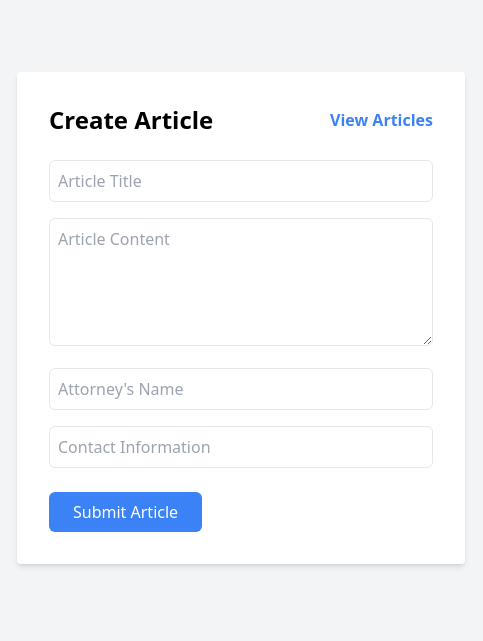
Test: CreateArticle › validates form fields and displays error messages
This screenshot has width=483, height=641.
Click the button "Submit Article".
click(126, 512)  # box top-left (49, 492), bottom-right (202, 532)
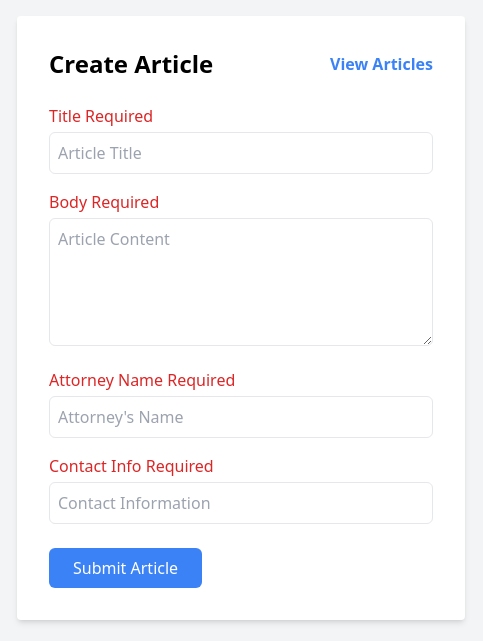
Check: the text "Title Required" is shown, box top-left (49, 105), bottom-right (153, 127)
Check: the text "Body Required" is shown, box top-left (49, 191), bottom-right (159, 213)
Check: the text "Attorney Name Required" is shown, box top-left (49, 369), bottom-right (235, 391)
